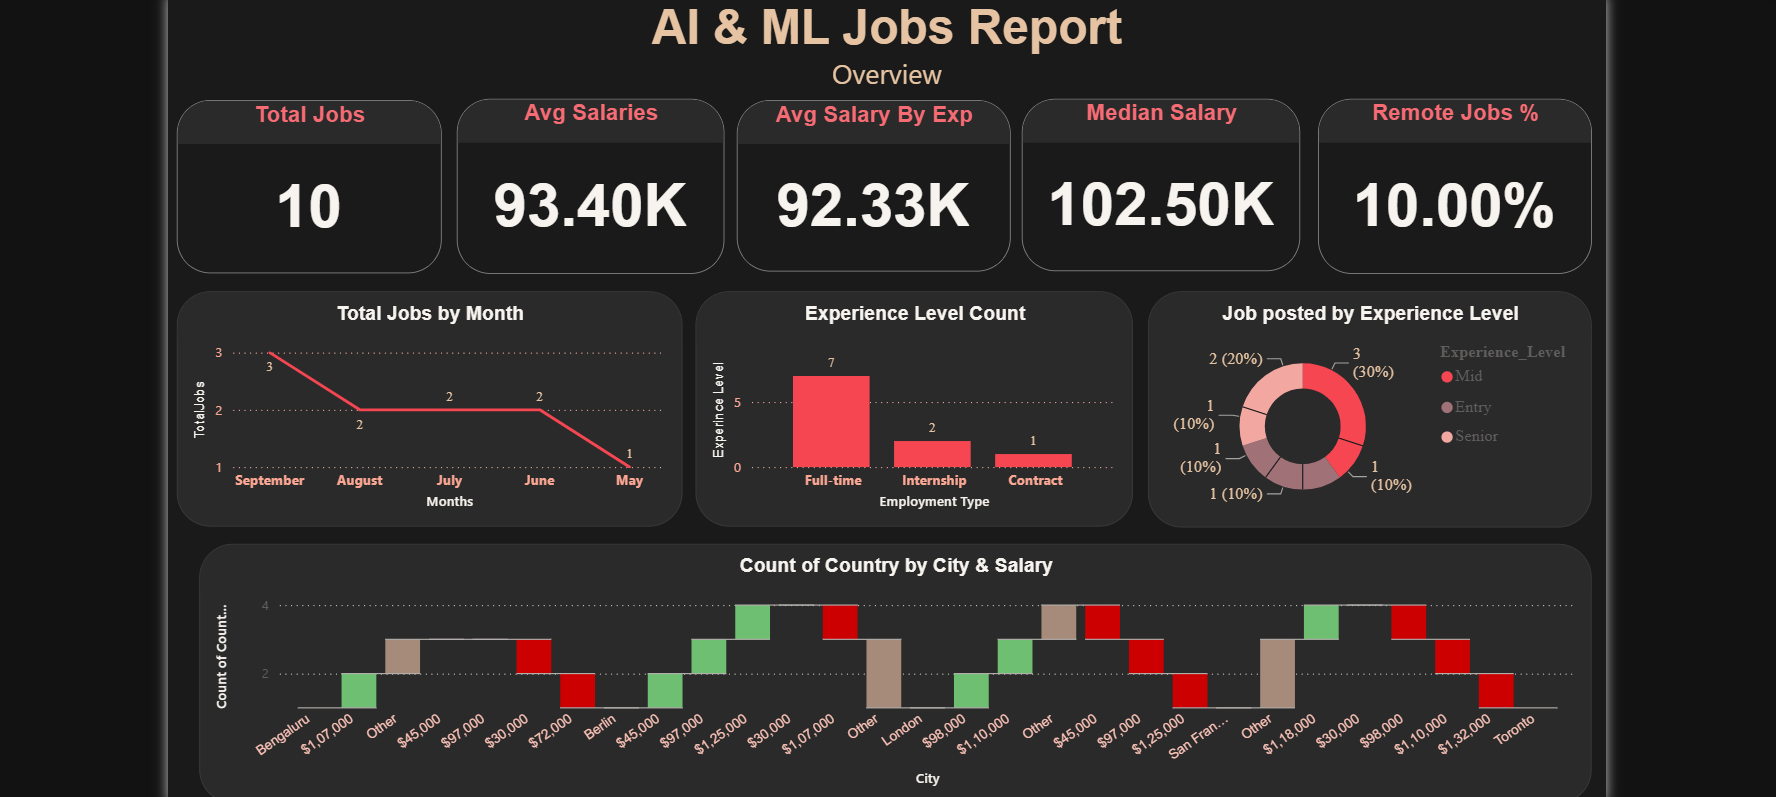

The dashboard page shown, as its layout file describes it:
{"tool":"powerbi","page":{"name":"Overview","canvas":[1280,720],"ordinal":0},"visuals":[{"type":"textbox","box":[0,0,1280.4,92.3],"z":0},{"type":"cardVisual","title":"Avg Salaries","fields":{"Data":["Fact_Jobs.AVG_Salary"]},"box":[251.3,93.8,240.2,155.9],"z":1000},{"type":"cardVisual","title":"Median Salary","fields":{"Data":["Fact_Jobs.MedianSalary"]},"box":[758.7,92.3,262.5,154.3],"z":2000},{"type":"cardVisual","title":"Remote Jobs %","fields":{"Data":["Fact_Jobs.RemoteJob%"]},"box":[1027.5,90.7,252.9,154.3],"z":3000},{"type":"cardVisual","title":"Avg Salary By Exp","fields":{"Data":["Fact_Jobs.AvgSalaryByExperience"]},"box":[499.5,93.8,251.3,152.7],"z":4000},{"type":"cardVisual","title":"Total Jobs ","fields":{"Data":["Fact_Jobs.TotalJobs"]},"box":[0,93.8,243.4,154.3],"z":5000},{"type":"lineChart","title":"Total Jobs by Month","fields":{"Category":["Dim_Date.MonthName"],"Y":["Fact_Jobs.TotalJobs"]},"box":[0,264,450.1,210],"z":6000},{"type":"clusteredColumnChart","title":"Experience Level Count","fields":{"Y":["CountNonNull(Fact_Jobs.Experience_Level)"],"Category":["Fact_Jobs.Employment_Type"]},"box":[469.2,264,389.7,210],"z":7000},{"type":"donutChart","title":"Job posted by Experience Level","fields":{"Y":["Fact_Jobs.TotalJobs"],"Category":["Fact_Jobs.Experience_Level"],"Series":["Fact_Jobs.IsRemote"]},"box":[878,264,389.7,198.8],"z":8000},{"type":"waterfallChart","title":"Count of Country by City & Salary","fields":{"Category":["Dim_Locations.City"],"Breakdown":["Fact_Jobs.Salary_USD"],"Y":["CountNonNull(Dim_Locations.Country)"]},"box":[23,489.9,1240,231],"z":9000}]}

Visuals, with their boxes on the page's 1280x720 design canvas (x1, y1, x2, y2). These are canvas units, not pixel positions in the 1776x797 screenshot, which may show the page scaled, cropped or inside an application window:
textbox: <box>0,0,1280,92</box>
"Avg Salaries" cardVisual: <box>251,94,492,250</box>
"Median Salary" cardVisual: <box>759,92,1021,247</box>
"Remote Jobs %" cardVisual: <box>1028,91,1280,245</box>
"Avg Salary By Exp" cardVisual: <box>500,94,751,246</box>
"Total Jobs " cardVisual: <box>0,94,243,248</box>
"Total Jobs by Month" lineChart: <box>0,264,450,474</box>
"Experience Level Count" clusteredColumnChart: <box>469,264,859,474</box>
"Job posted by Experience Level" donutChart: <box>878,264,1268,463</box>
"Count of Country by City & Salary" waterfallChart: <box>23,490,1263,721</box>
